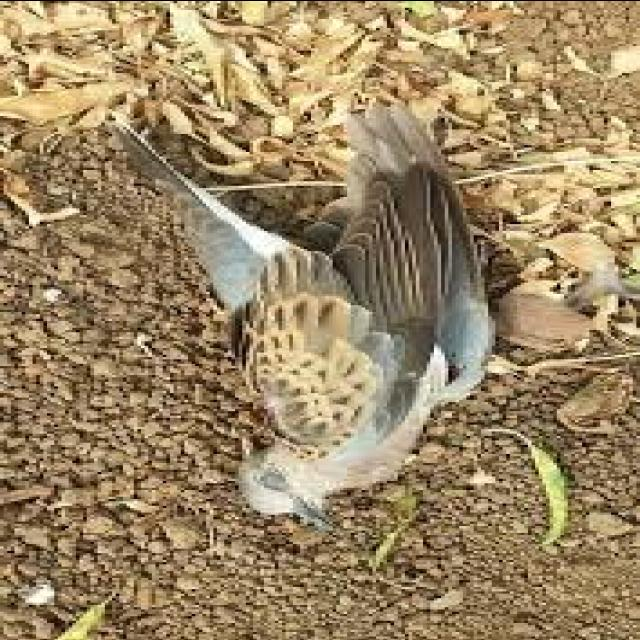pigeon: (113, 98, 548, 534)
